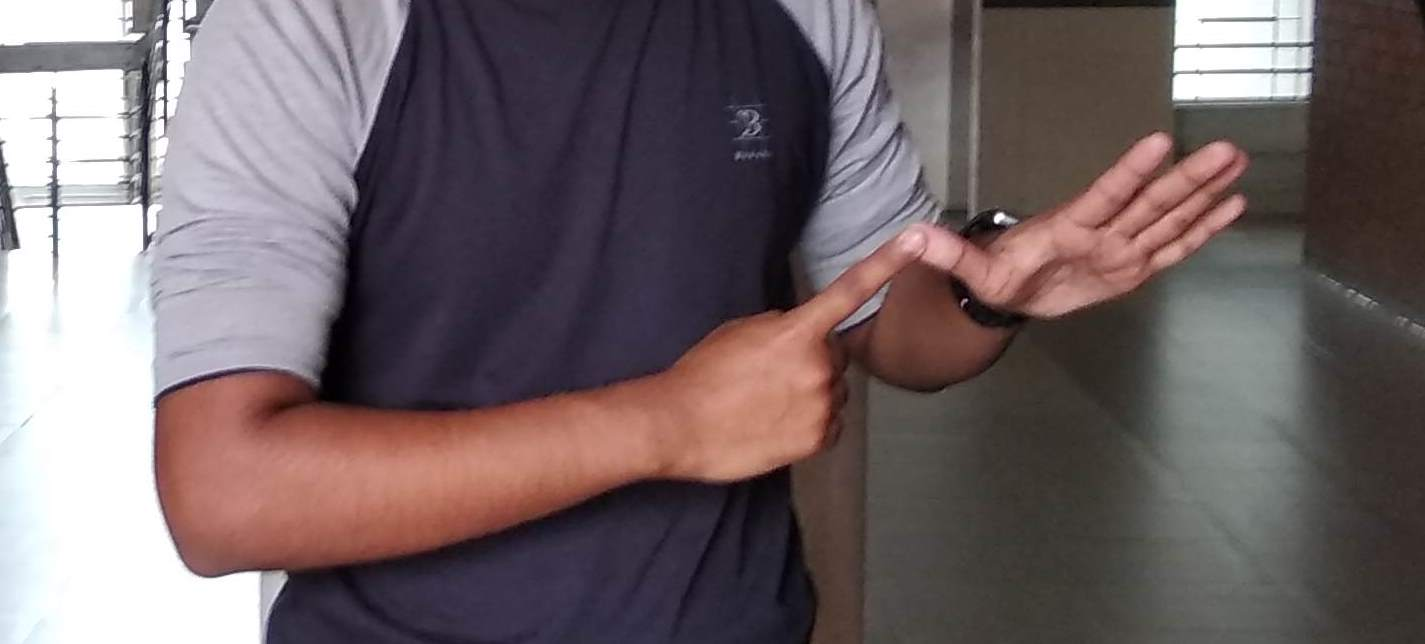a: (756, 133, 1239, 506)
